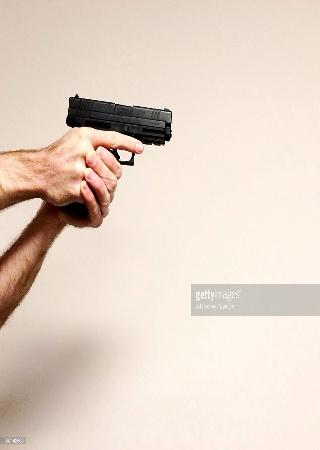handgun: (67, 88, 172, 166)
